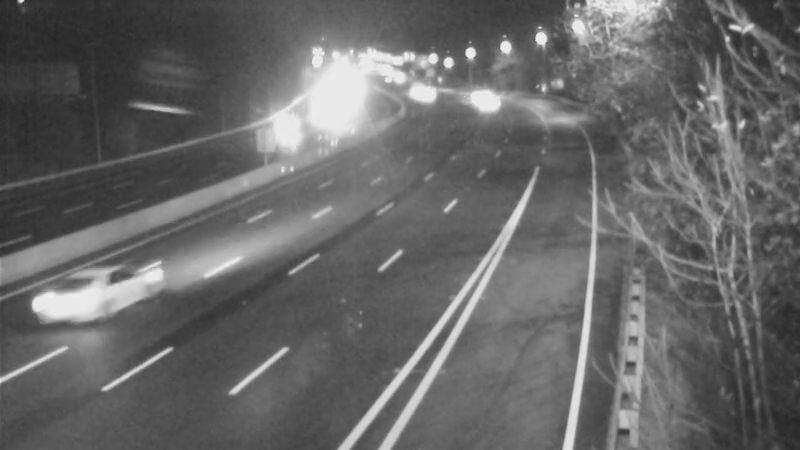vehicle: (16, 255, 126, 365), (390, 64, 440, 114), (400, 71, 450, 121), (449, 69, 499, 119), (458, 71, 508, 121), (261, 109, 311, 159)
